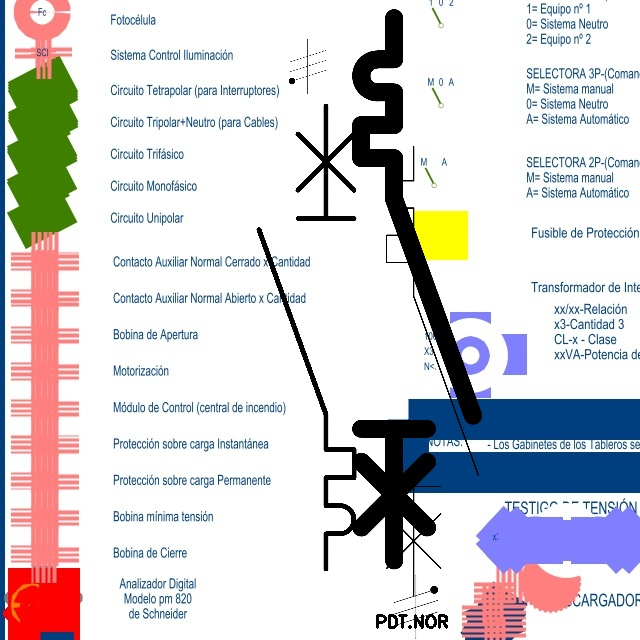interruptor_termomagnetico: (347, 4, 486, 574), (247, 94, 366, 581), (375, 135, 490, 607)
